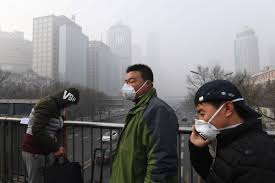mask: (187, 74, 251, 145), (118, 61, 156, 100)
